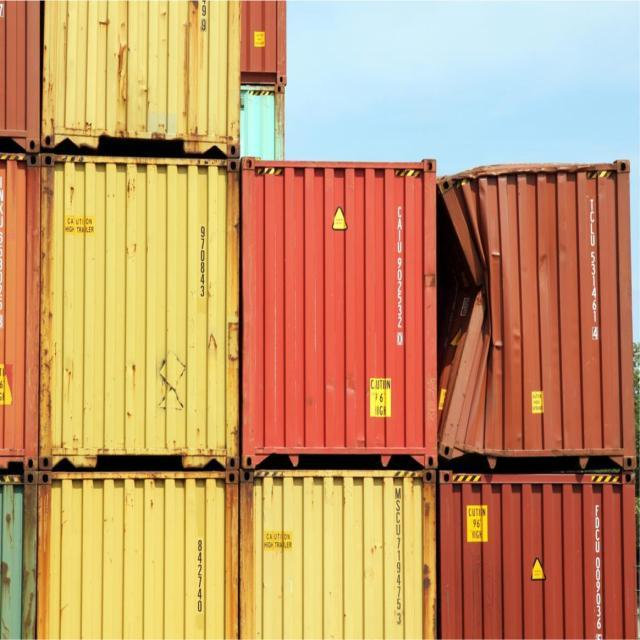dent: (440, 164, 510, 479)
